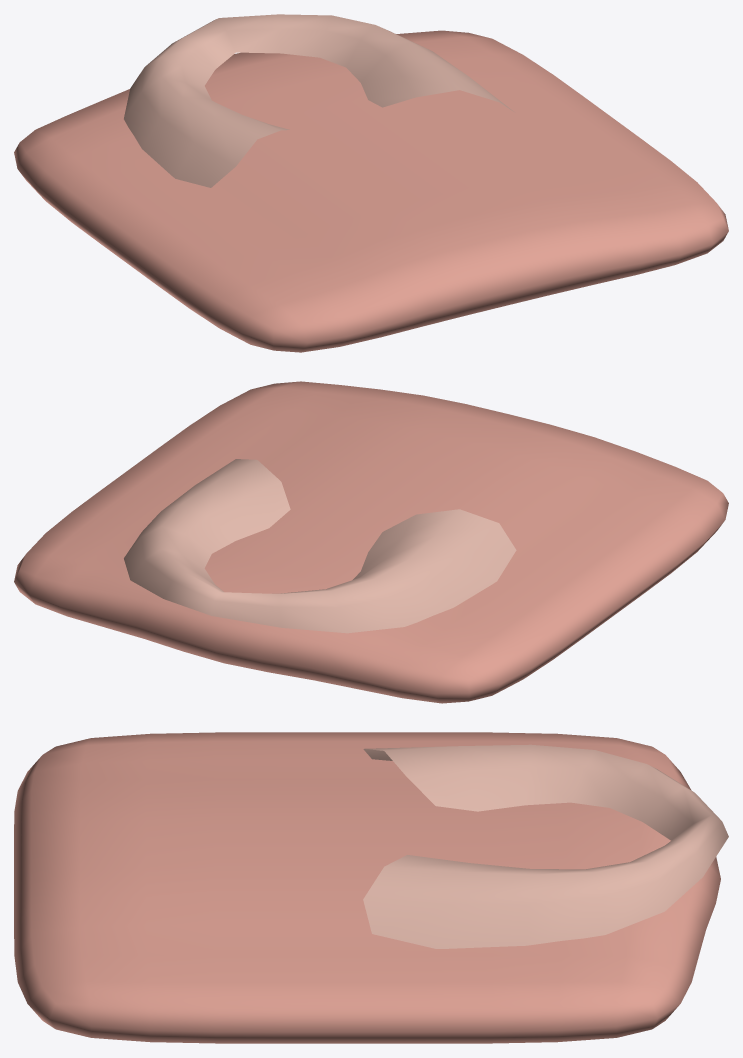
The model's file is Shirt_Folded.fbx.
3 views of the same model, one above another, from view 1: azimuth 30°, elevation 25°; view 2: azimuth 150°, elevation 25°; view 3: azimuth 270°, elevation 25° (orthographic). The views are drawn at different scales.
Visible parts, largest first — view 1: Shirt_folded; view 2: Shirt_folded; view 3: Shirt_folded.
Boxes of the visible parts, x1,y1,x2,y2 form: Shirt_folded: (14, 14, 728, 352); Shirt_folded: (14, 381, 728, 703); Shirt_folded: (14, 732, 728, 1043).
Size of the model in its own units: 197 by 33.74 by 207.
